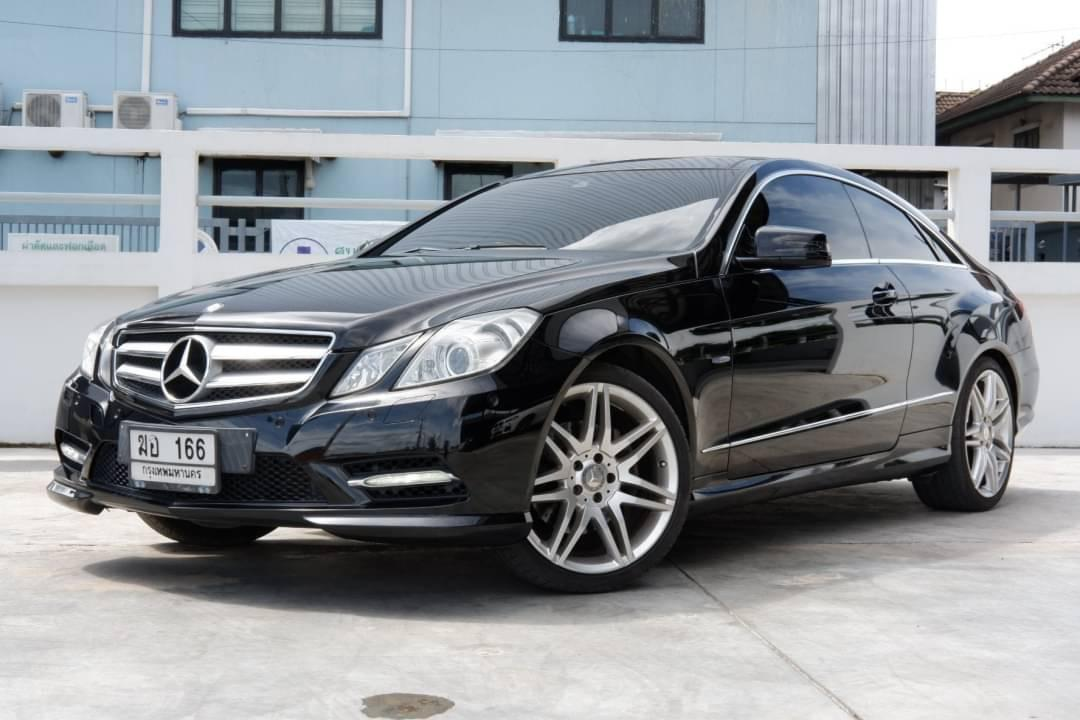license-plate: (125, 423, 222, 500)
